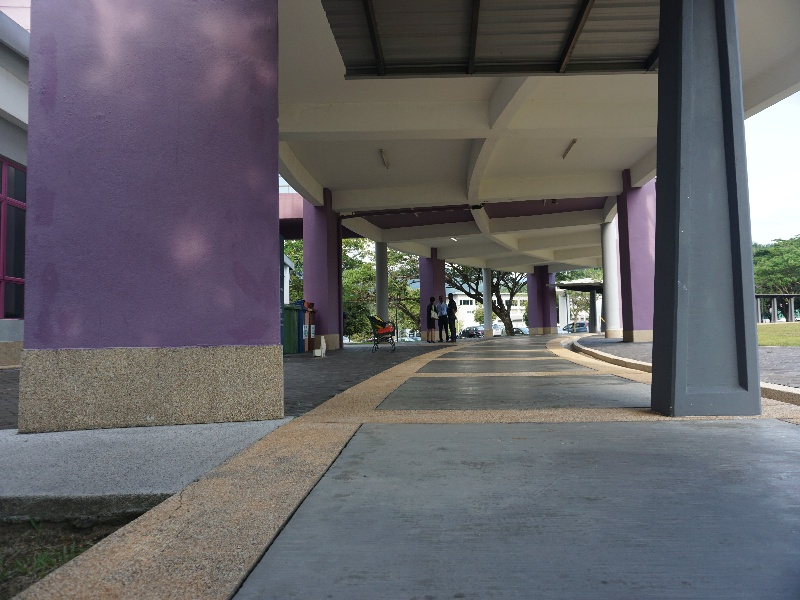Block D Pillar 1: (4, 4, 800, 505)
pillar: (11, 1, 306, 434), (652, 9, 771, 440)
